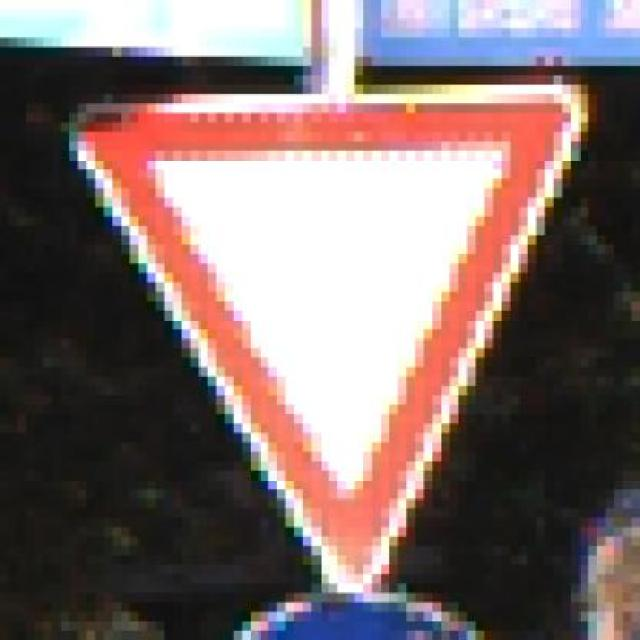Give Way: (43, 75, 614, 602)
